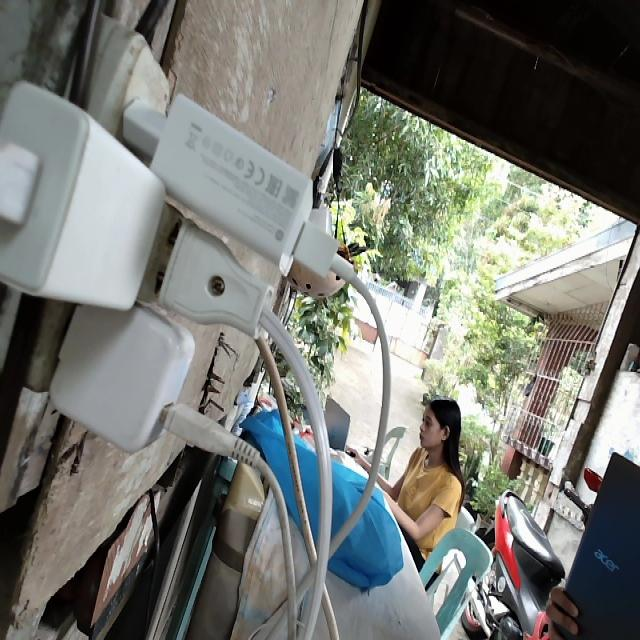-: (2, 24, 360, 461)
